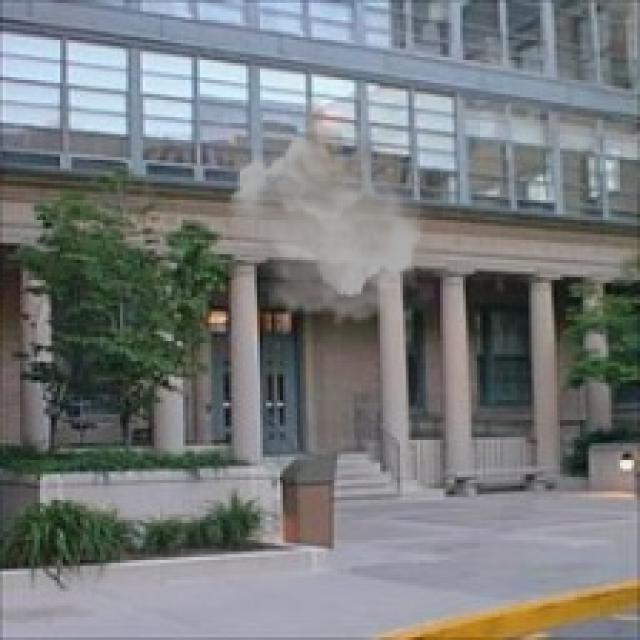Smoke: (226, 92, 454, 328)
